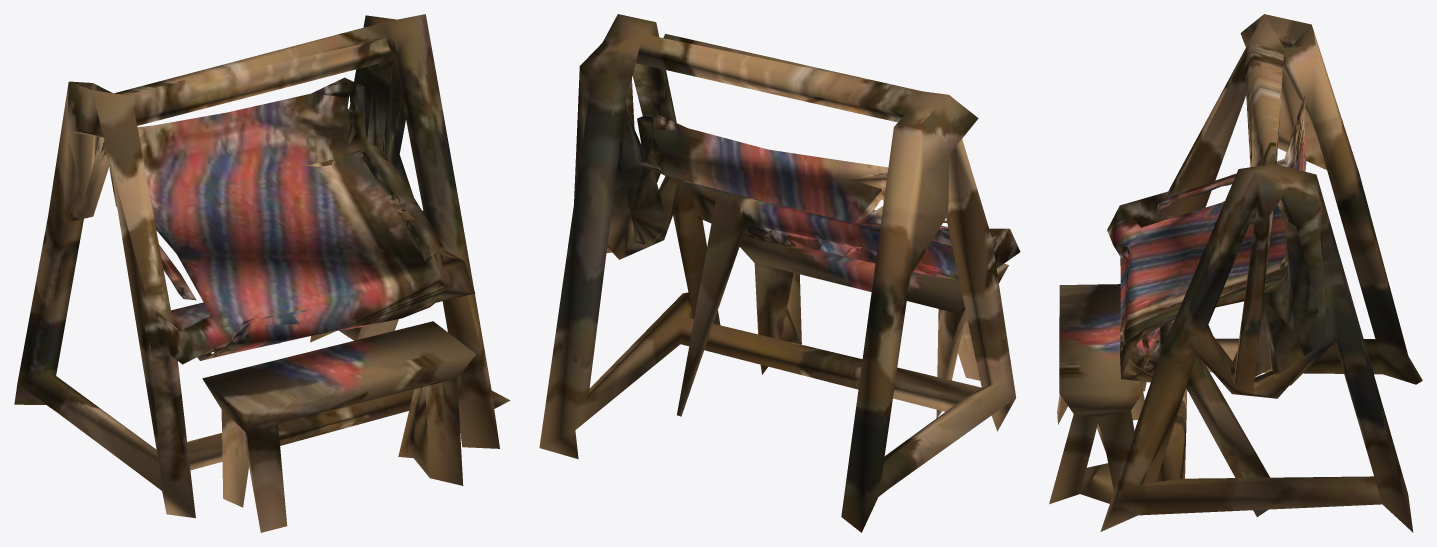
The model's file is toad-prop-loom.glb.
The picture shows the model from 3 angles, left to right: view 1: azimuth 30°, elevation 25°; view 2: azimuth 150°, elevation 25°; view 3: azimuth 270°, elevation 25°; orthographic projection. The views are drawn at different scales.
Visible parts, largest first — view 1: geometry_0; view 2: geometry_0; view 3: geometry_0.
Part boxes in pixels (box(x1,y1,x2,y2)): geometry_0: box(14, 14, 510, 532); geometry_0: box(539, 14, 1020, 532); geometry_0: box(1049, 14, 1422, 532).
Bounding box in the file's own units: 0.0684 × 0.07 × 0.0631.
1 material, 1 textured.
